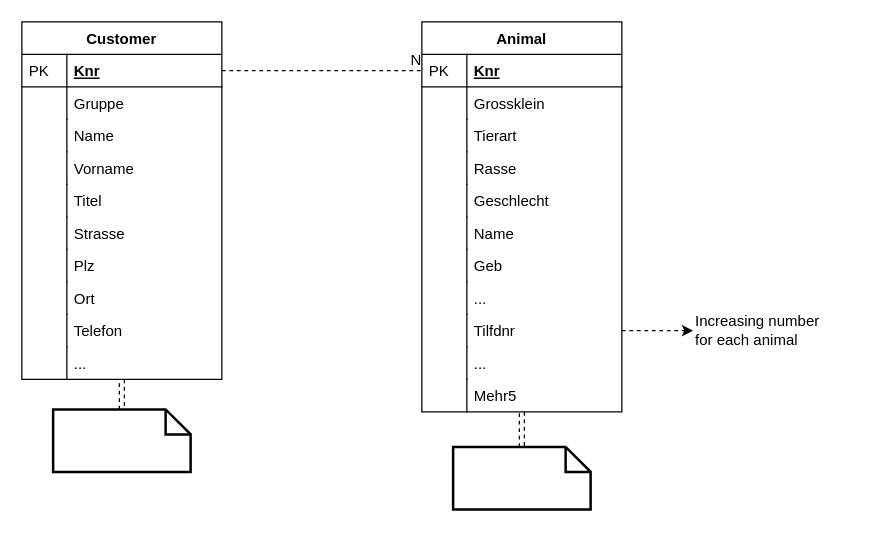
Some shapes in this 878 by 533 pixel diagram are drawn without their labels. Here are the shapes that lost their labels. From the top down, the centre of each, then its label:
At pixel 121 440: "vetkldat".
At pixel 521 477: "vetktdat".
